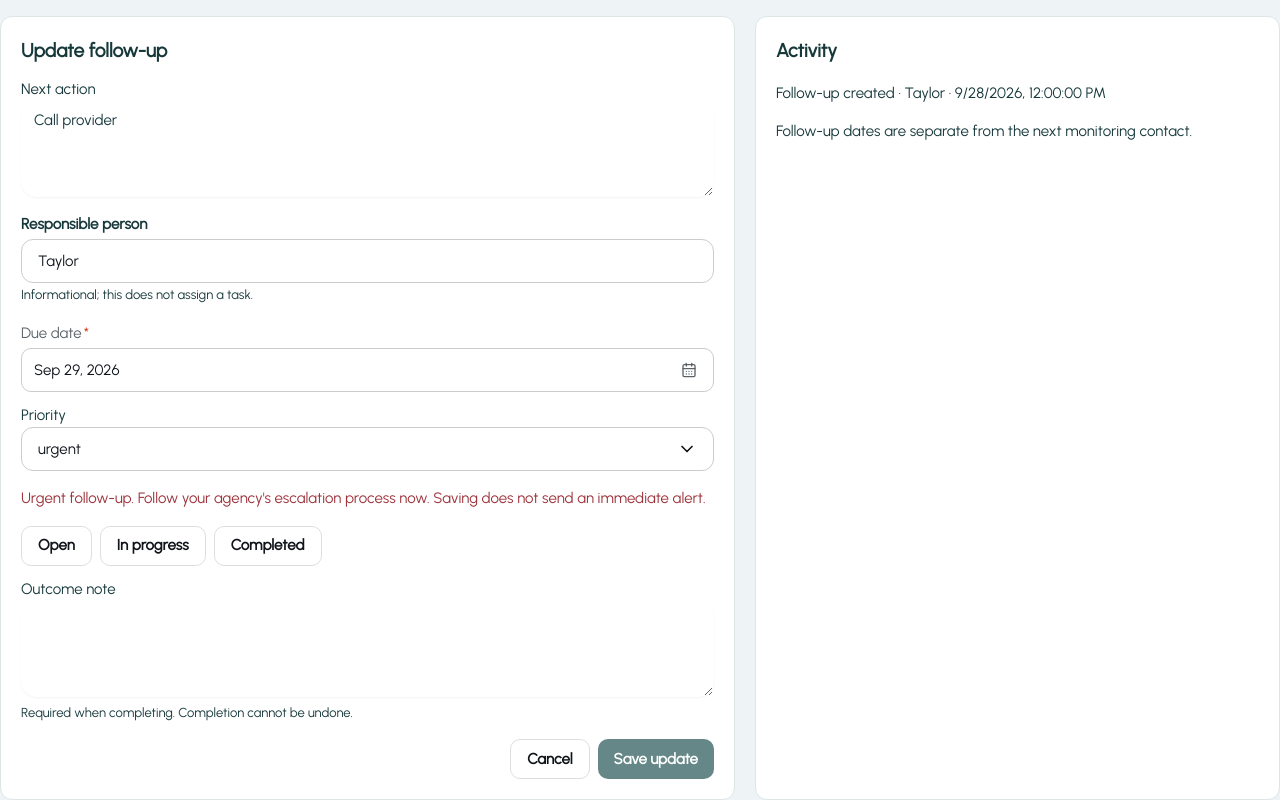
Test: reloads the latest detail after a revision conflict
(page scrolled)
Click the button "In progress" at (153, 546), box [100,526,206,566]
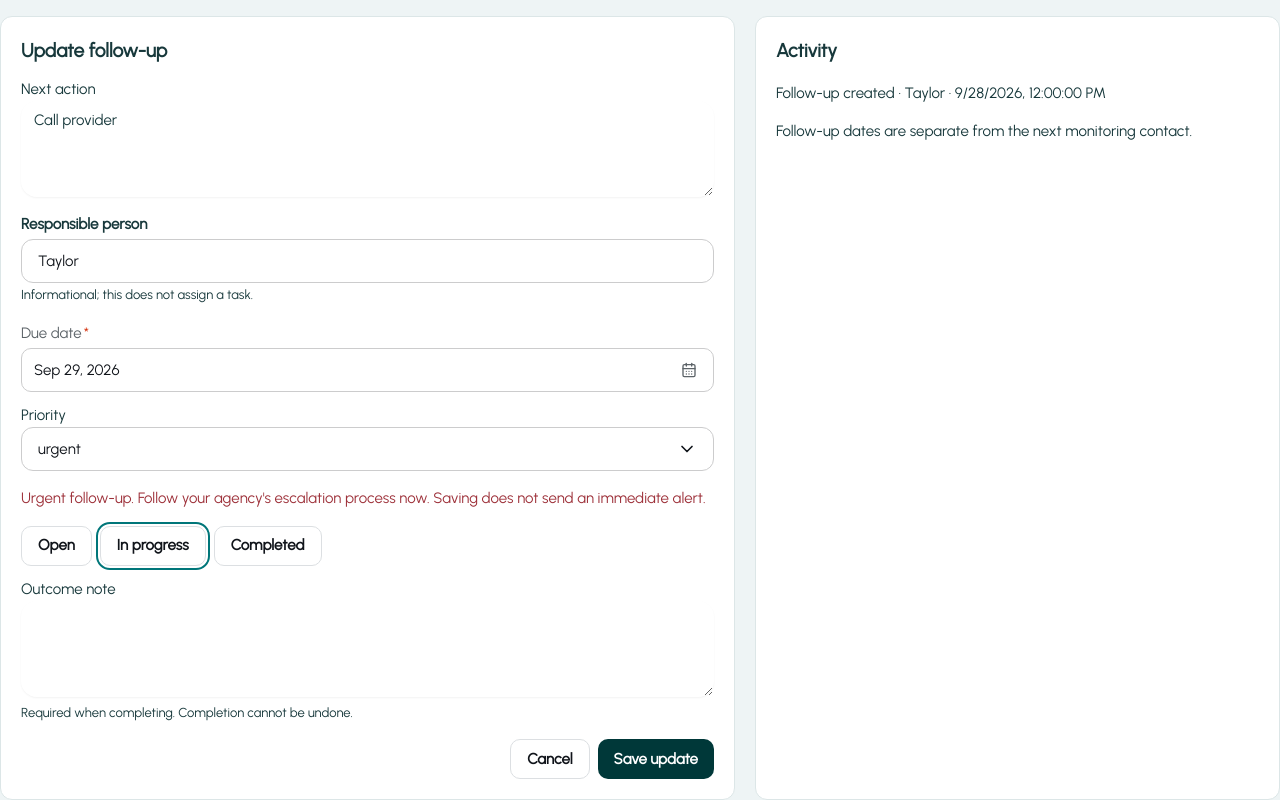
Click the button "Save update" at (656, 759), box [598,739,714,779]
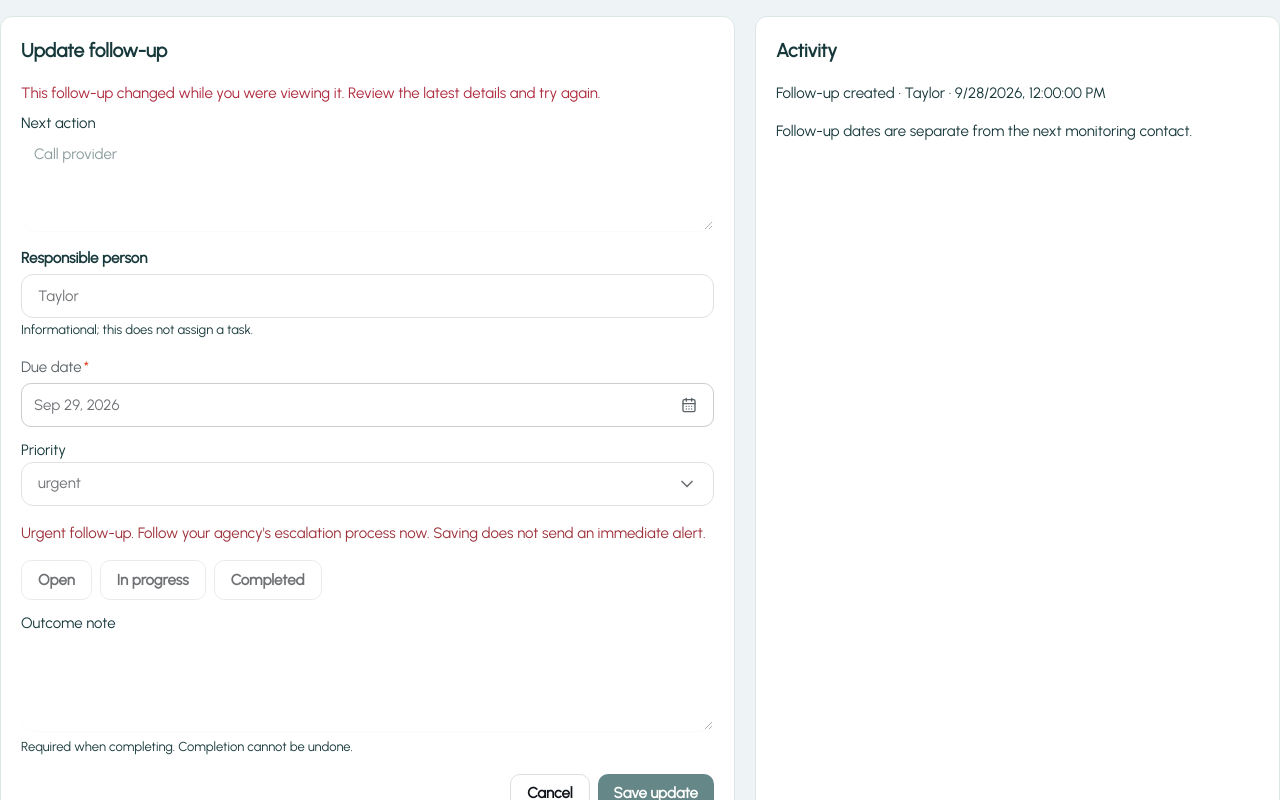
Expected: the text "This follow-up changed while you were viewing it. Review the latest details and try again." is shown, [21,84,600,102]
